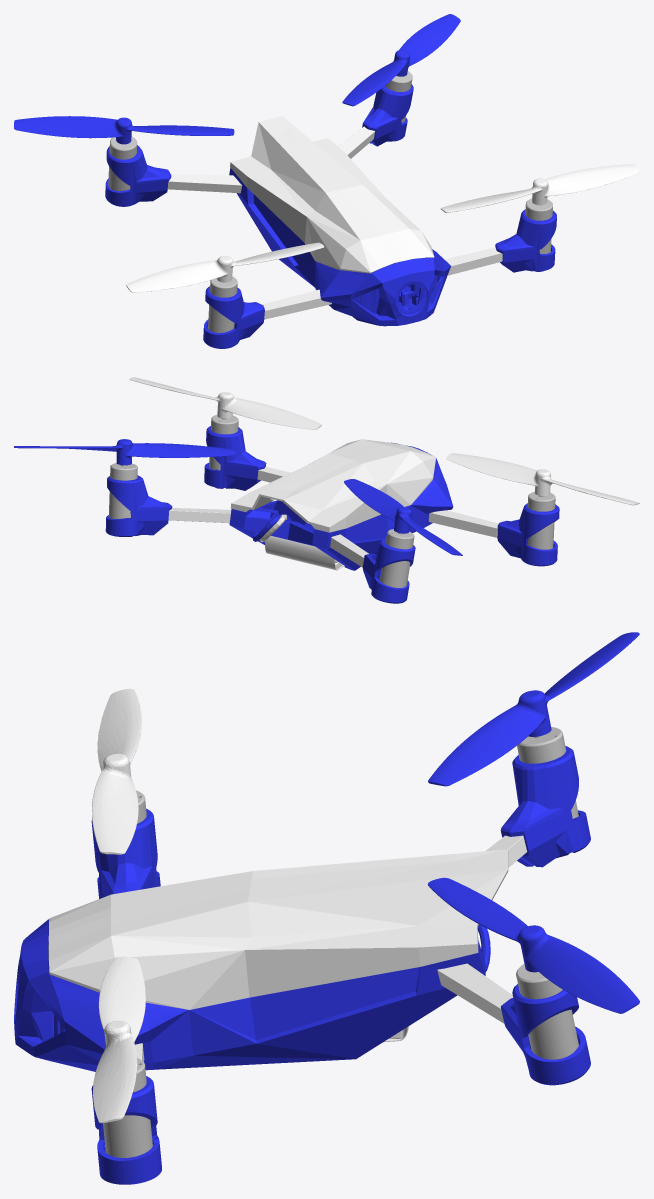
Rendered from last-nano.obj.
3 views of the same model, one above another, from view 1: azimuth 30°, elevation 25°; view 2: azimuth 150°, elevation 25°; view 3: azimuth 270°, elevation 25° (orthographic). The views are drawn at different scales.
Visible parts, largest first — view 1: polySurface59, polySurface58, polySurface23, bras2, helice02, helice04, helice01, helice03, polySurface57; view 2: polySurface59, polySurface58, polySurface23, polySurface57, bras2, helice01, helice04, helice03, helice02, polySurface54; view 3: polySurface59, polySurface23, polySurface58, helice03, polySurface57, helice01, helice04, helice02, bras2.
Part boxes in pixels (x1,y1,x2,y2): polySurface59: (230, 116, 434, 273); polySurface58: (105, 84, 556, 348); polySurface23: (229, 168, 451, 326); bras2: (167, 126, 502, 319); helice02: (14, 116, 234, 144); helice04: (440, 164, 639, 212); helice01: (126, 242, 324, 292); helice03: (342, 14, 460, 106); polySurface57: (108, 71, 552, 332); polySurface59: (230, 439, 435, 532); polySurface58: (105, 426, 559, 603); polySurface23: (229, 442, 453, 570); polySurface57: (108, 415, 555, 587); bras2: (168, 466, 498, 567); helice01: (446, 453, 639, 505); helice04: (129, 377, 321, 429); helice03: (14, 439, 235, 465); helice02: (344, 479, 462, 555); polySurface54: (265, 536, 344, 570); polySurface59: (48, 849, 508, 1009); polySurface23: (14, 919, 485, 1071); polySurface58: (91, 746, 590, 1184); helice03: (427, 877, 639, 1013); polySurface57: (103, 727, 578, 1157); helice01: (92, 688, 141, 854); helice04: (93, 956, 145, 1123); helice02: (428, 632, 639, 786); bras2: (135, 835, 527, 1061).
Size of the model in its own units: 1.75 by 0.4491 by 1.08.
